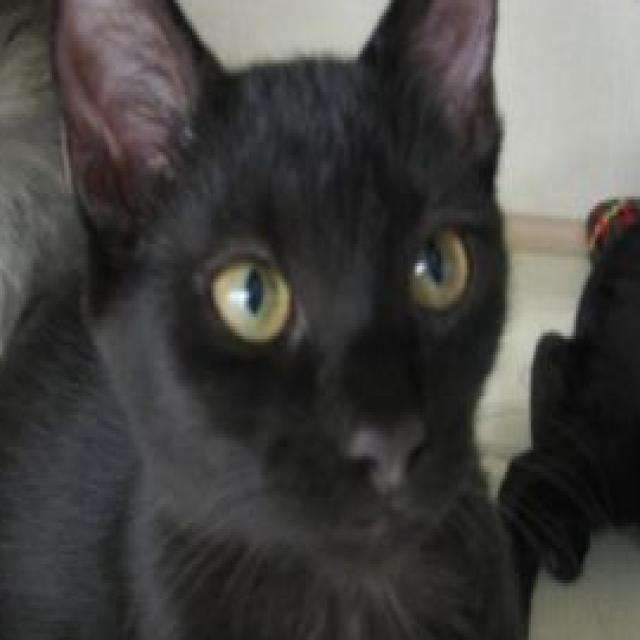Bombay: (0, 0, 536, 640)
